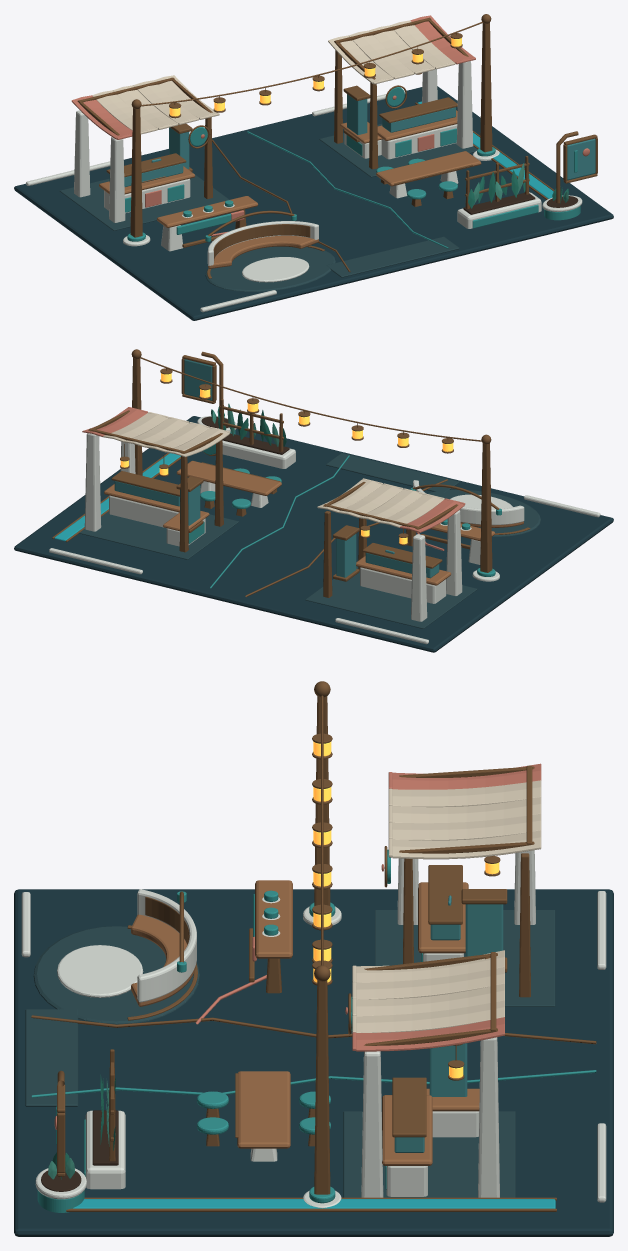
Rendered from afterlight_lantern_market_kit.glb.
3 renders of one model, top to bottom at view 1: azimuth 30°, elevation 25°; view 2: azimuth 150°, elevation 25°; view 3: azimuth 270°, elevation 25°, orthographic. The views are drawn at different scales.
Visible parts, largest first — view 1: LM_GroundRibbon_A, LM_Stall_Courtyard_B, LM_Stall_Courtyard_A, LM_ListeningCrescent_A, LM_LanternSpine_A, LM_PlanterScreen_A, LM_ThresholdSign_A, LM_CommunalTable_A, LM_TastingRail_A; view 2: LM_GroundRibbon_A, LM_Stall_Courtyard_A, LM_Stall_Courtyard_B, LM_LanternSpine_A, LM_PlanterScreen_A, LM_ListeningCrescent_A, LM_CommunalTable_A, LM_ThresholdSign_A, LM_TastingRail_A; view 3: LM_GroundRibbon_A, LM_Stall_Courtyard_B, LM_Stall_Courtyard_A, LM_ListeningCrescent_A, LM_LanternSpine_A, LM_CommunalTable_A, LM_TastingRail_A, LM_PlanterScreen_A, LM_ThresholdSign_A.
Part boxes in pixels (x1,y1,x2,y2): LM_GroundRibbon_A: (14, 86, 613, 320); LM_Stall_Courtyard_B: (328, 15, 475, 169); LM_Stall_Courtyard_A: (71, 75, 219, 222); LM_ListeningCrescent_A: (205, 210, 335, 291); LM_LanternSpine_A: (123, 14, 499, 246); LM_PlanterScreen_A: (457, 156, 541, 228); LM_ThresholdSign_A: (542, 131, 597, 220); LM_CommunalTable_A: (376, 151, 481, 206); LM_TastingRail_A: (157, 196, 258, 251); LM_GroundRibbon_A: (14, 416, 613, 652); LM_Stall_Courtyard_A: (317, 478, 465, 621); LM_Stall_Courtyard_B: (82, 407, 230, 552); LM_LanternSpine_A: (131, 349, 499, 581); LM_PlanterScreen_A: (218, 399, 295, 468); LM_ListeningCrescent_A: (410, 480, 540, 536); LM_CommunalTable_A: (176, 460, 281, 516); LM_ThresholdSign_A: (181, 351, 237, 434); LM_TastingRail_A: (406, 519, 494, 564); LM_GroundRibbon_A: (14, 889, 613, 1236); LM_Stall_Courtyard_B: (345, 950, 504, 1197); LM_Stall_Courtyard_A: (381, 763, 541, 997); LM_ListeningCrescent_A: (33, 889, 199, 1024); LM_LanternSpine_A: (303, 681, 341, 1208); LM_CommunalTable_A: (197, 1071, 330, 1161); LM_TastingRail_A: (249, 880, 292, 993); LM_PlanterScreen_A: (84, 1049, 125, 1189); LM_ThresholdSign_A: (35, 1070, 86, 1212).
Bounding box in the file's own units: 14.6 × 4.83 × 10.8.
